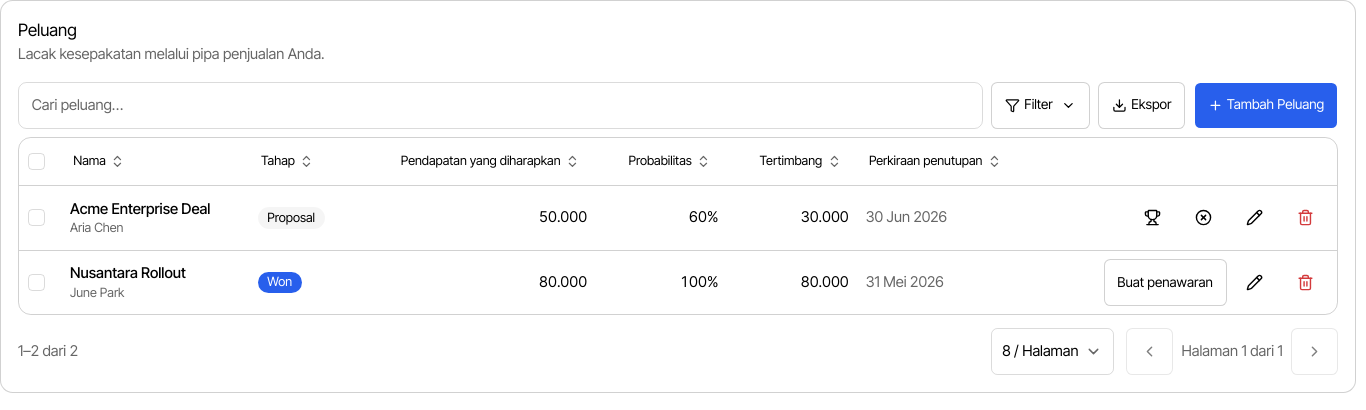
Test: OpportunitiesSection › filters opportunities through the search box
Expected: the text "Acme Enterprise Deal" is shown, [70, 200, 210, 218]
In the search field with placeholder "Cari peluang…": (500,105) [18, 82, 983, 129], type "Nusantara"
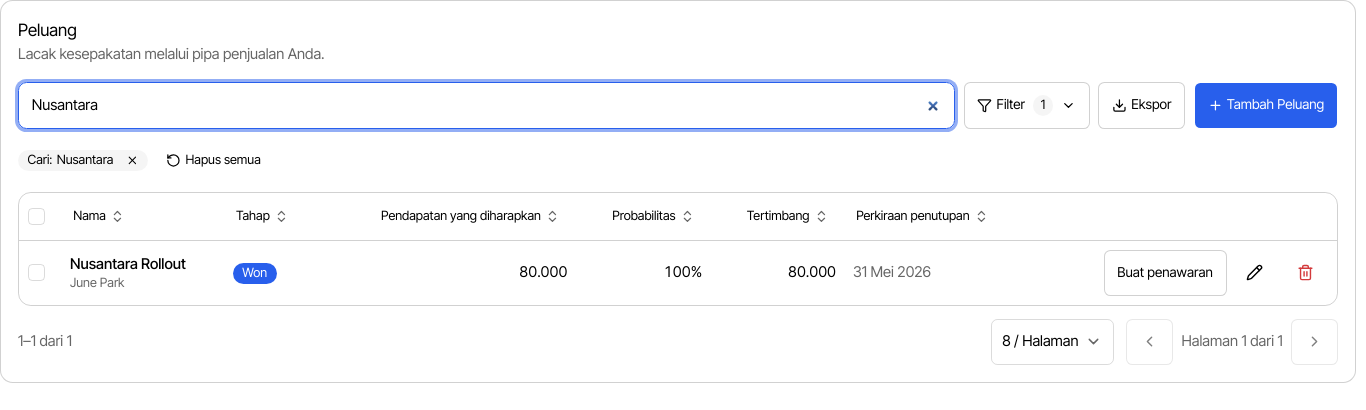
Expected: the text "Nusantara Rollout" is shown, [70, 255, 186, 273]
Now the text "Acme Enterprise Deal" is gone
